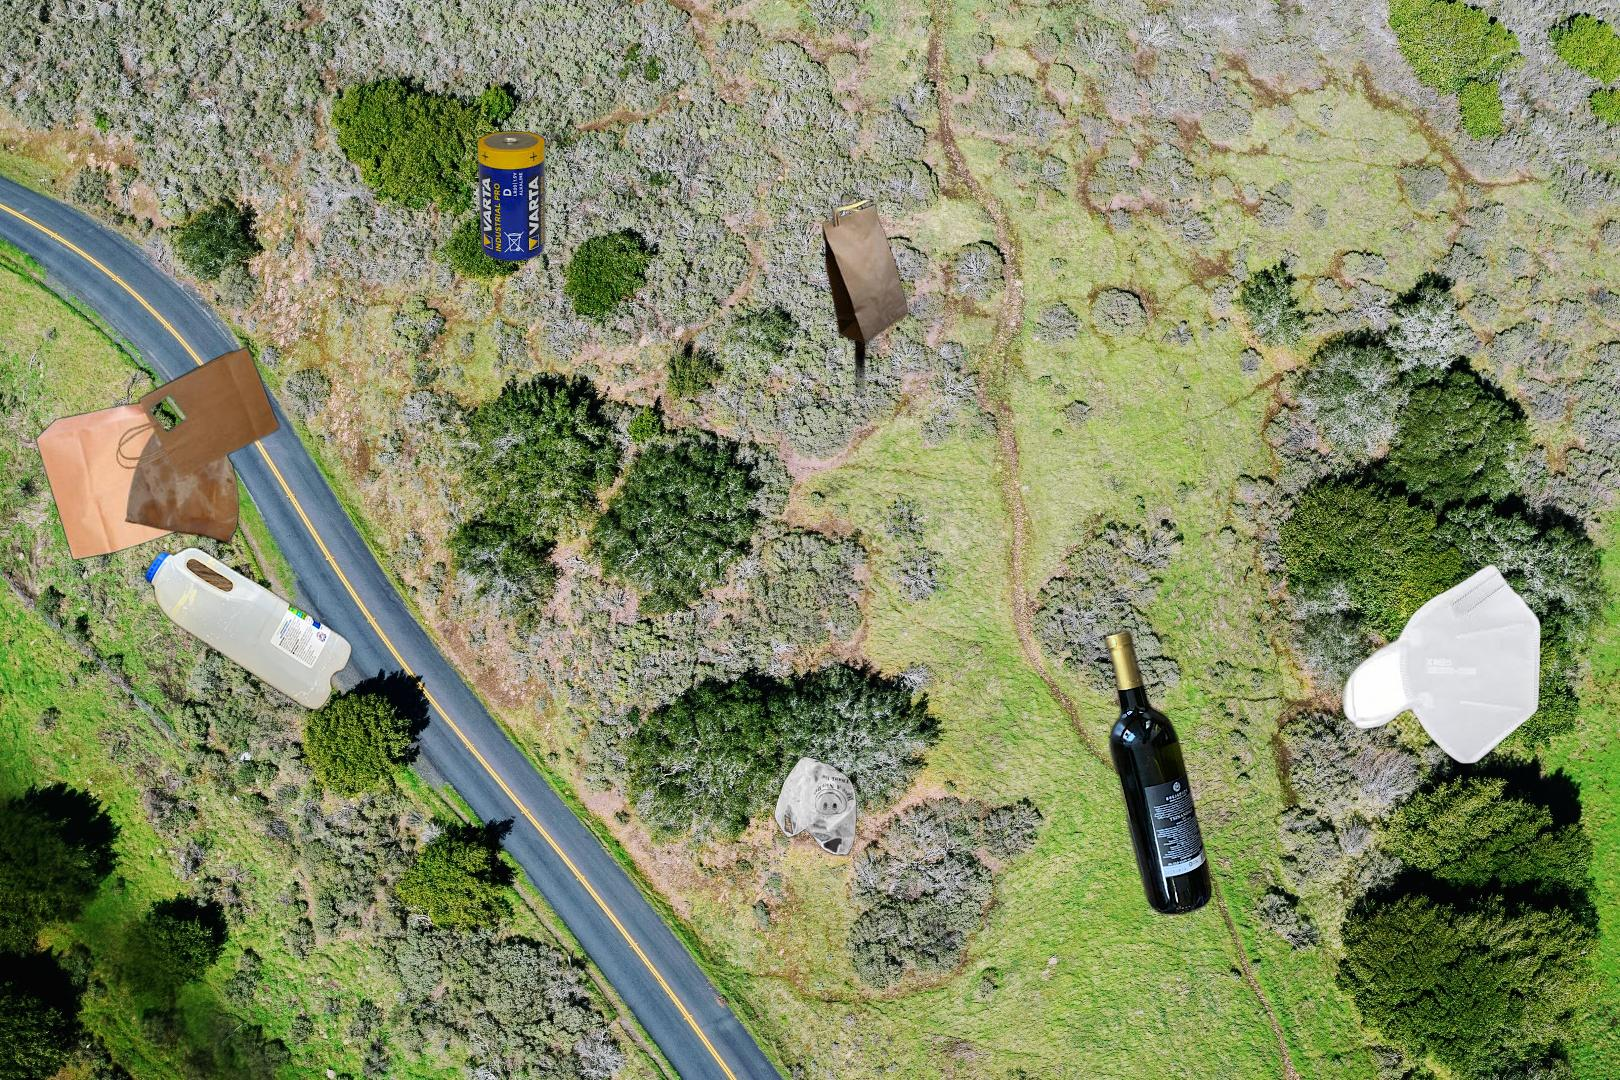battery: (382, 43, 582, 264)
glass: (1100, 622, 1216, 921)
paper-bag: (33, 329, 295, 563), (800, 190, 911, 397)
plastic-bag: (771, 755, 859, 858)
plastic-bottles: (141, 511, 356, 716)
trash: (1338, 562, 1544, 783)
